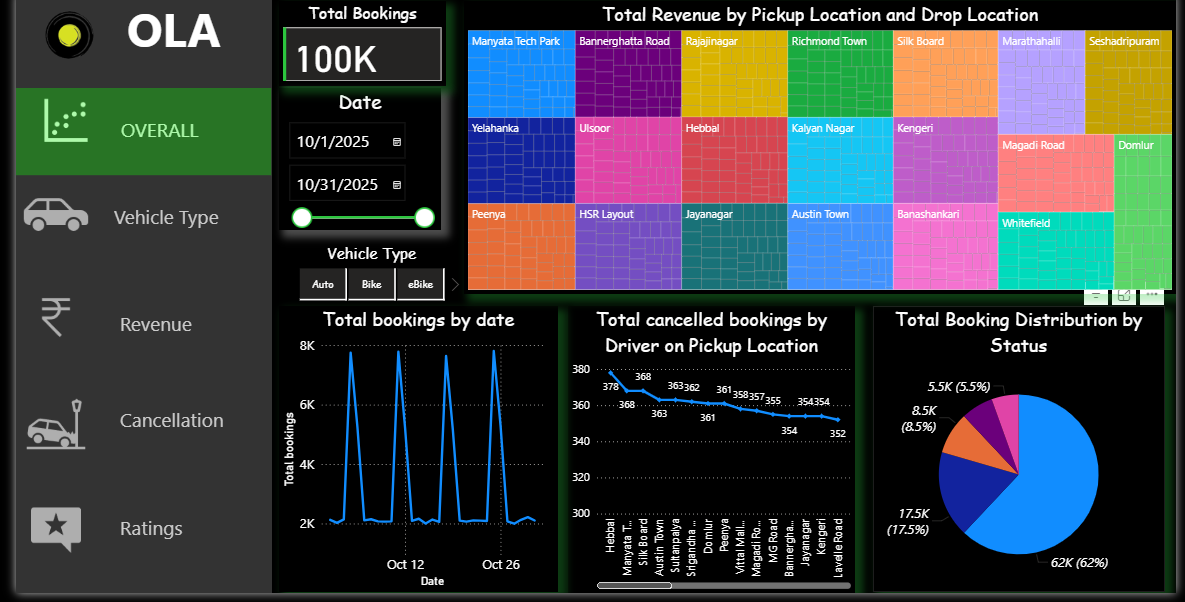

Layout of this report page (visuals, bound fields, positions):
{"tool":"powerbi","page":{"name":"Overall","canvas":[1450,750],"ordinal":0},"visuals":[{"type":"shape","box":[0,0,318.8,748.8],"z":0},{"type":"textbox","box":[133.8,0,131.2,107.5],"z":1000},{"type":"textbox","box":[126.2,148.8,131.2,48.8],"z":2000},{"type":"textbox","box":[117.5,257.5,148.8,50],"z":3000},{"type":"image","box":[7.5,116.2,110,86.2],"z":4000},{"type":"image","box":[0,227.5,100,98.8],"z":5000},{"type":"image","box":[0,370,100,71.2],"z":6000},{"type":"image","box":[0,493.8,100,90],"z":7000},{"type":"image","box":[0,622.5,100,97.5],"z":8000},{"type":"actionButton","box":[6.2,495,312.5,100],"z":9000},{"type":"lineChart","title":"Total bookings by date","fields":{"Category":["Bookings-OCT.Date"],"Y":["Bookings-OCT.Total bookings"]},"box":[328.6,391.4,348.6,357.1],"z":10000},{"type":"pieChart","title":"Total Booking Distribution by Status","fields":{"Y":["CountNonNull(Bookings-OCT.Booking Status)"],"Category":["Bookings-OCT.Booking Status"]},"box":[1071.4,391.4,364.3,357.1],"z":11000},{"type":"actionButton","box":[0,232.5,318.8,93.8],"z":12000},{"type":"actionButton","box":[0,481.2,318.8,113.8],"z":13000},{"type":"actionButton","box":[0,365,318.8,101.2],"z":14000},{"type":"image","box":[0,0,133.8,105],"z":15000},{"type":"textbox","box":[125,511.2,148.8,50],"z":16000},{"type":"textbox","box":[125,391.2,148.8,50],"z":17000},{"type":"textbox","box":[125,646.2,148.8,50],"z":18000},{"type":"actionButton","box":[0,622.5,318.8,113.8],"z":19000},{"type":"slicer","title":"Date","fields":{"Values":["Bookings-OCT.Date"]},"box":[328.6,118.6,202.9,177.1],"z":20000},{"type":"lineChart","title":"Total cancelled bookings by Driver on Pickup Location","fields":{"Category":["Bookings-OCT.Pickup Location"],"Y":["Sum(Bookings-OCT.Cancelled by Driver)"]},"box":[690,391.4,358.6,358.6],"z":21000},{"type":"cardVisual","title":"Total Bookings","fields":{"Data":["CountNonNull(Bookings-OCT.Booking ID)"]},"box":[328.6,10,208.6,105.7],"z":22000},{"type":"treemap","fields":{"Values":["Bookings-OCT.Total Revenue"],"Group":["Bookings-OCT.Pickup Location"],"Details":["Bookings-OCT.Drop Location"]},"box":[560,10,890,365.7],"z":23000},{"type":"slicer","title":"Vehicle Type","fields":{"Values":["Bookings-OCT.Vehicle Type"]},"box":[328.6,311.4,231.4,80],"z":24000},{"type":"textbox","box":[0,118.8,318.8,108.8],"z":25000}]}

Visuals, with their boxes on the page's 1450x750 design canvas (x1, y1, x2, y2). These are canvas units, not pixel positions in the 1185x602 screenshot, which may show the page scaled, cropped or inside an application window:
shape: <box>0,0,319,749</box>
textbox: <box>134,0,265,108</box>
textbox: <box>126,149,257,198</box>
textbox: <box>118,258,266,308</box>
image: <box>8,116,118,202</box>
image: <box>0,228,100,326</box>
image: <box>0,370,100,441</box>
image: <box>0,494,100,584</box>
image: <box>0,622,100,720</box>
actionButton: <box>6,495,319,595</box>
"Total bookings by date" lineChart: <box>329,391,677,748</box>
"Total Booking Distribution by Status" pieChart: <box>1071,391,1436,748</box>
actionButton: <box>0,232,319,326</box>
actionButton: <box>0,481,319,595</box>
actionButton: <box>0,365,319,466</box>
image: <box>0,0,134,105</box>
textbox: <box>125,511,274,561</box>
textbox: <box>125,391,274,441</box>
textbox: <box>125,646,274,696</box>
actionButton: <box>0,622,319,736</box>
"Date" slicer: <box>329,119,532,296</box>
"Total cancelled bookings by Driver on Pickup Location" lineChart: <box>690,391,1049,750</box>
"Total Bookings" cardVisual: <box>329,10,537,116</box>
treemap - Bookings-OCT.Total Revenue x Bookings-OCT.Pickup Location: <box>560,10,1450,376</box>
"Vehicle Type" slicer: <box>329,311,560,391</box>
textbox: <box>0,119,319,228</box>
